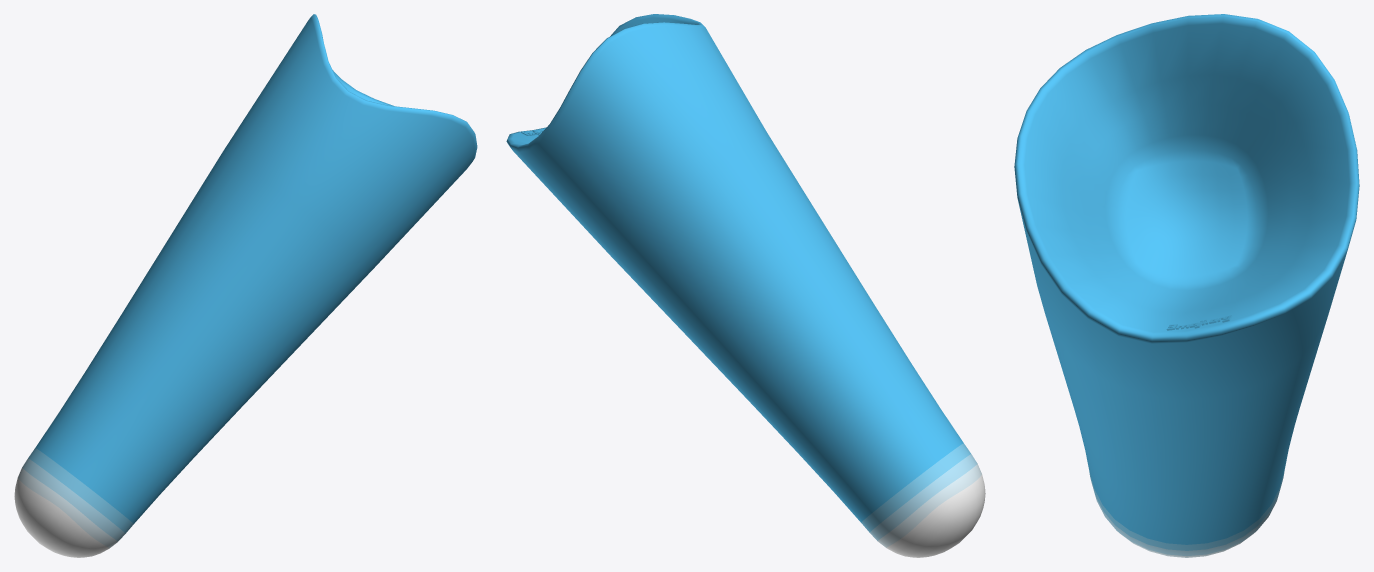
File: comet.glb
The picture shows the model from 3 angles, left to right: view 1: azimuth 30°, elevation 25°; view 2: azimuth 150°, elevation 25°; view 3: azimuth 270°, elevation 25°; orthographic projection. The views are drawn at different scales.
Parts seen in each view (by area): view 1: Cube.224; view 2: Cube.224; view 3: Cube.224.
Part boxes in pixels (x1,y1,x2,y2): Cube.224: [14, 14, 477, 557]; Cube.224: [506, 14, 985, 557]; Cube.224: [1014, 14, 1359, 557].
Size of the model in its own units: 2.06 by 2.09 by 0.8836.
Materials: 1 (1 with a texture image).
